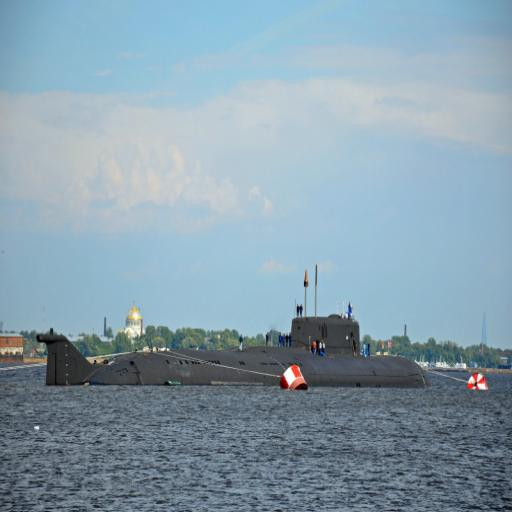submarine: (38, 316, 434, 391)
